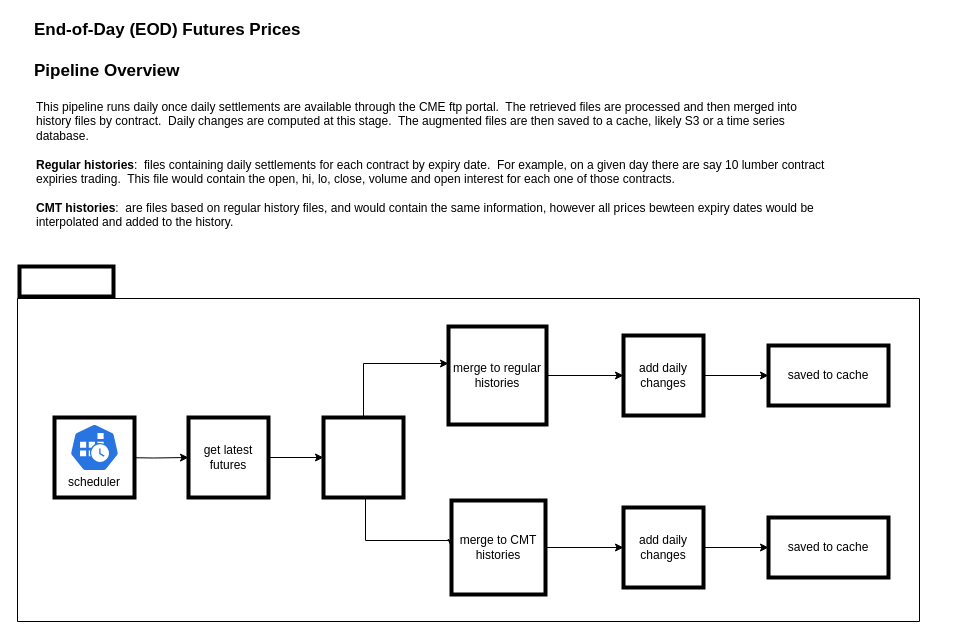
Image size: 963x639. Some labels were removed from this diagram. The centre of each missing label's shape, as x and y in pixels:
"K8s-Kubeflow" belongs at pixel 66 281.
"reformat and add fields" belongs at pixel 363 457.
